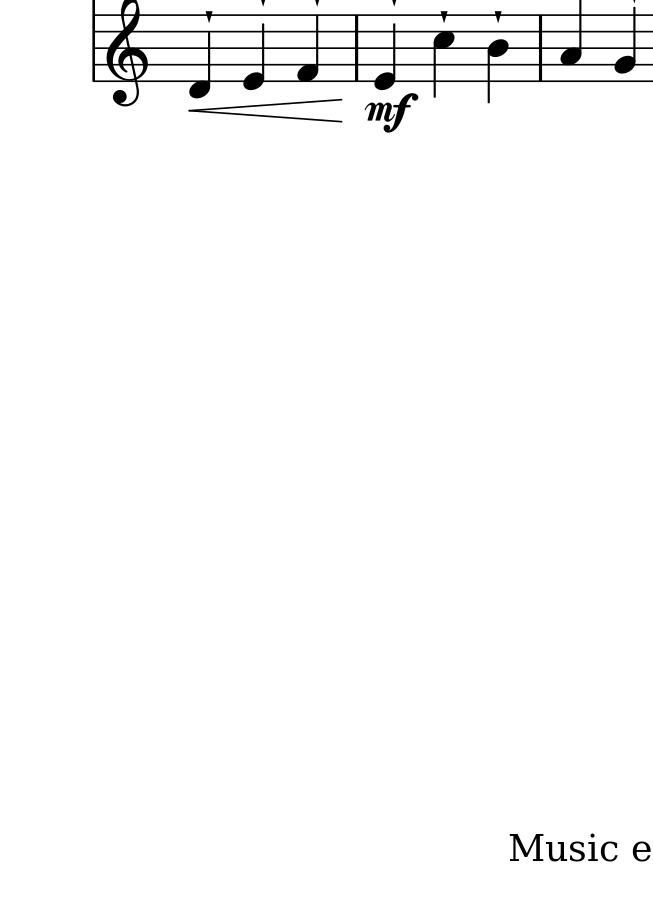4_-1: (186, 13, 213, 100)
4_0: (240, 12, 266, 93), (372, 11, 397, 90)
4_1: (294, 12, 321, 83)
4_4: (485, 12, 512, 105)
4_5: (431, 13, 456, 101)
Crescendo_hairpin: (189, 98, 346, 124)
Gclef: (106, 1, 148, 107)
Single_barline: (87, 12, 103, 82), (349, 16, 364, 81), (534, 16, 548, 79)
Staccatissimo: (203, 8, 215, 23), (439, 9, 450, 23), (494, 9, 504, 24)
mf: (365, 93, 419, 134)
